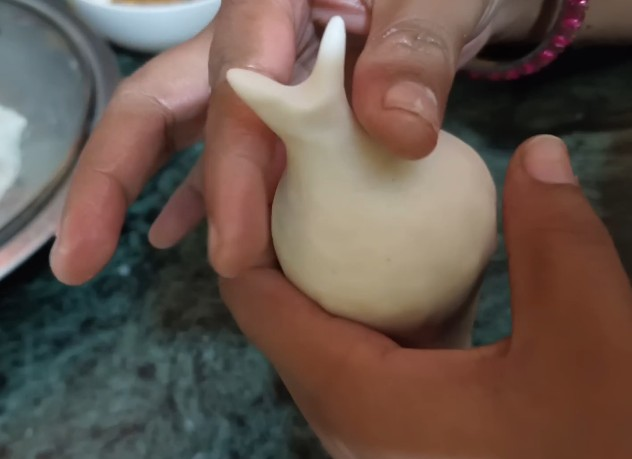yomari: (224, 13, 364, 233)
